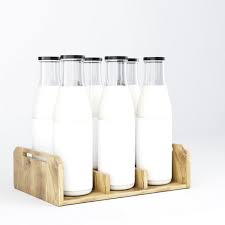milk: (29, 50, 98, 203), (89, 43, 140, 187), (134, 49, 179, 191)
